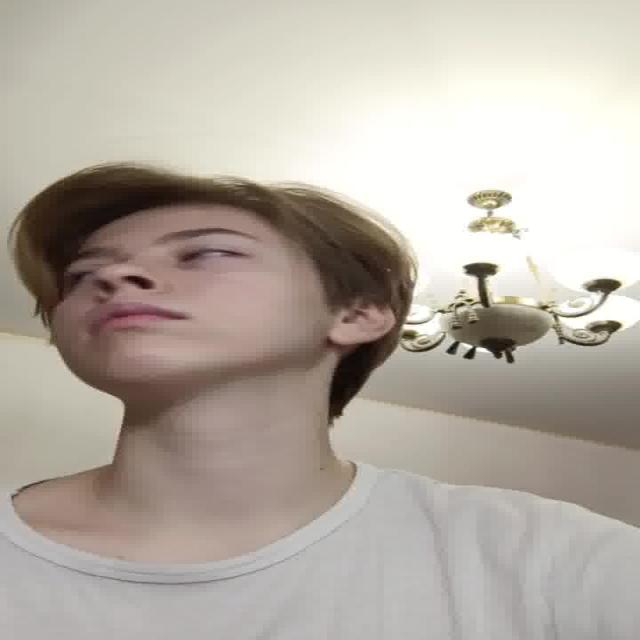earlobe: (329, 328, 374, 347)
eye: (174, 246, 249, 262), (66, 268, 92, 284)
nose: (92, 282, 162, 307)
wholeear: (329, 295, 395, 347)
